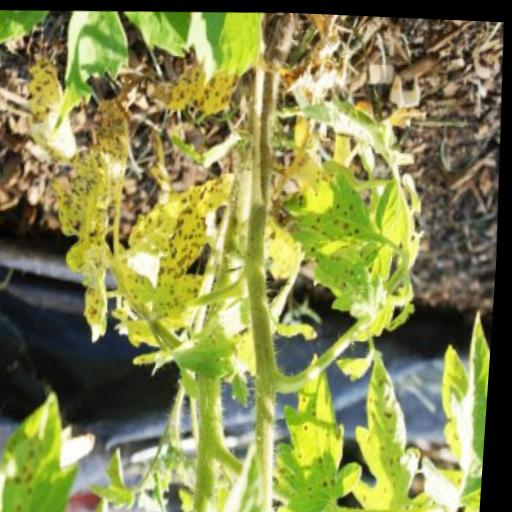Septoria: (273, 152, 426, 329), (46, 87, 149, 347), (120, 162, 241, 313), (356, 349, 443, 512), (276, 361, 369, 512), (0, 385, 92, 512)
